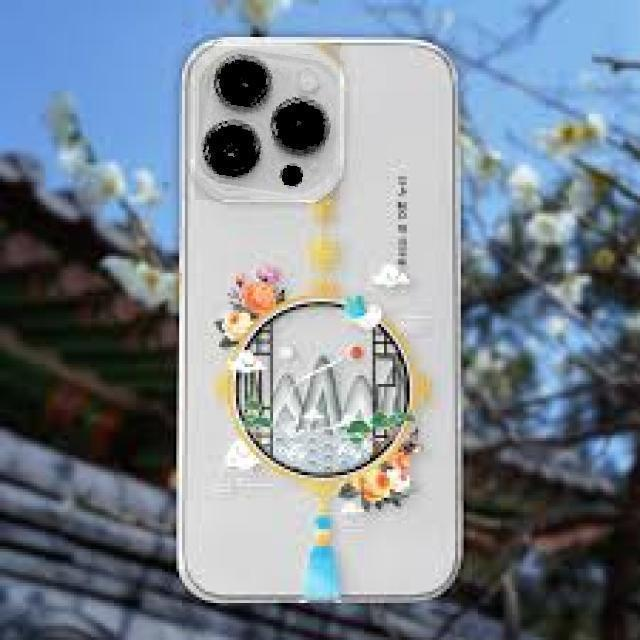Mobile: (175, 31, 469, 610)
